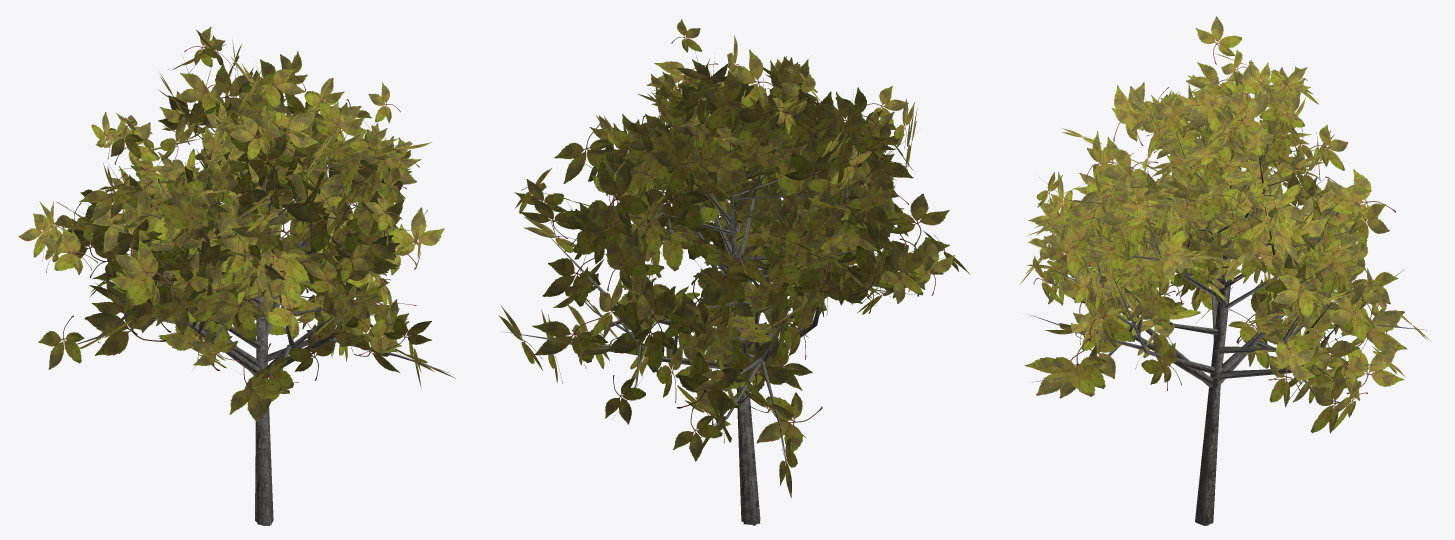
Rendered from Tree.FBX.
3 renders of one model, left to right at view 1: azimuth 30°, elevation 25°; view 2: azimuth 150°, elevation 25°; view 3: azimuth 270°, elevation 25°, orthographic. The views are drawn at different scales.
Parts seen in each view (by area): view 1: Tree; view 2: Tree; view 3: Tree.
Boxes of the visible parts, <box> form: Tree: <box>18,26,455,525</box>; Tree: <box>499,19,970,525</box>; Tree: <box>1020,16,1430,525</box>.
Bounding box in the file's own units: 365 × 417 × 353.
